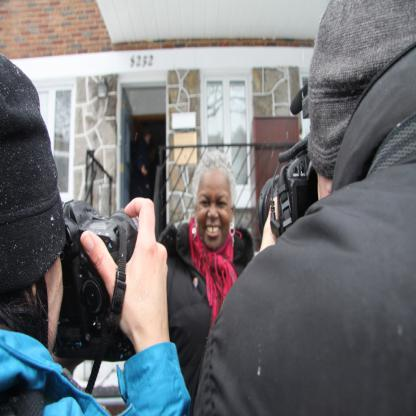Camera: (52, 196, 170, 380), (256, 83, 317, 244)
